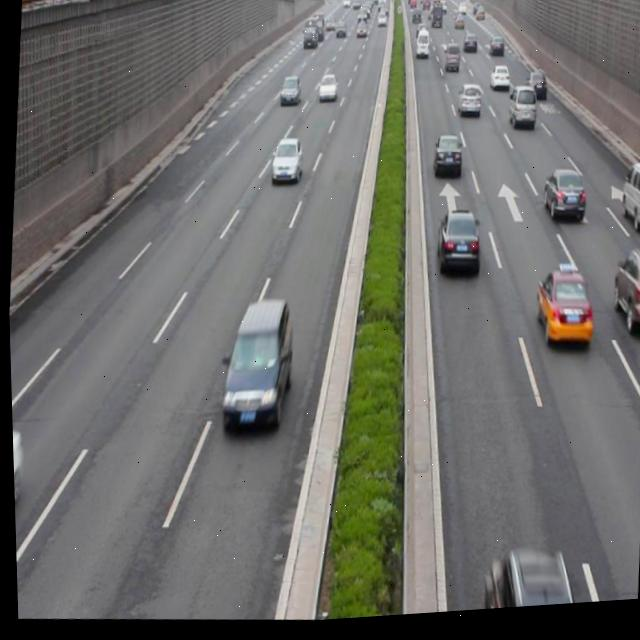car: (475, 550, 582, 616), (532, 273, 593, 356), (432, 210, 479, 284), (606, 253, 640, 343), (541, 173, 584, 229), (268, 138, 302, 187), (430, 136, 463, 184), (506, 90, 535, 135), (455, 87, 479, 123), (277, 76, 301, 110), (523, 75, 546, 107), (487, 67, 509, 99), (316, 77, 336, 106)
truck: (216, 299, 294, 432), (617, 165, 640, 238)
